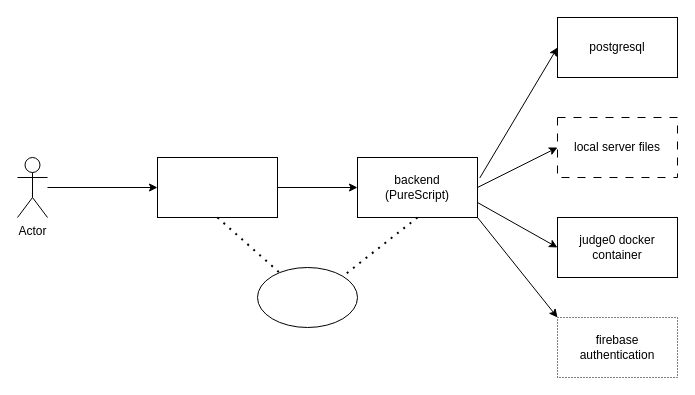
Image size: 695x395. Some labels were removed from this diagram. Here are the shapes that lost their labels. From the top down, the centre of each, then its label:
pixel 217 187: web server (PureScript)
pixel 307 297: launch config json
